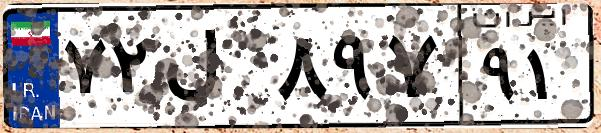1: (525, 38, 570, 115)
2: (110, 28, 158, 98)
7: (385, 28, 445, 110), (57, 26, 110, 100)
8: (270, 28, 330, 110)
9: (330, 28, 385, 110), (475, 38, 525, 113)
ل: (158, 20, 270, 120)
